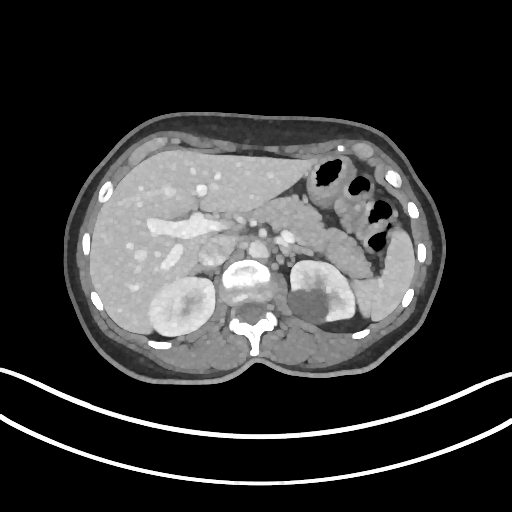Lesion: (288, 285, 330, 328)
